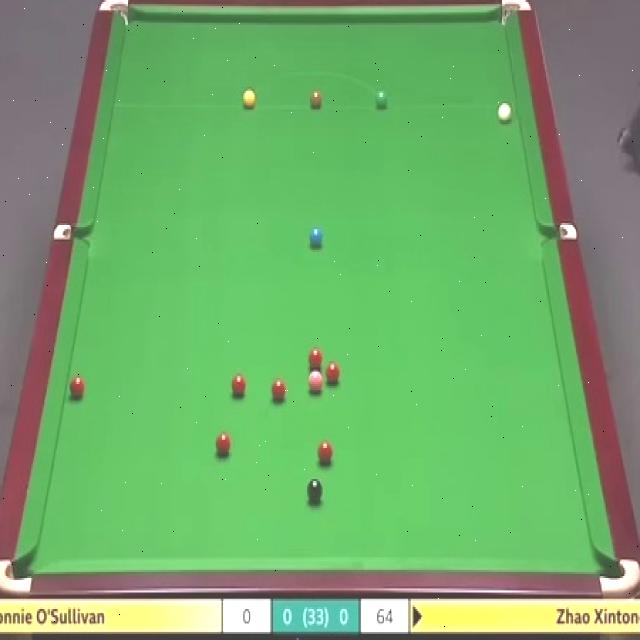black-ball: (306, 478, 324, 503)
blue-ball: (310, 227, 323, 250)
brown-ball: (310, 91, 323, 110)
green-ball: (376, 90, 388, 110)
pink-ball: (308, 370, 324, 396)
red-ball: (215, 429, 232, 458), (68, 376, 86, 401), (230, 374, 248, 399), (316, 441, 333, 465), (270, 379, 286, 404), (326, 363, 341, 387), (308, 349, 324, 370)
white-ball: (497, 100, 513, 123)
yellow-ball: (241, 88, 256, 110)
